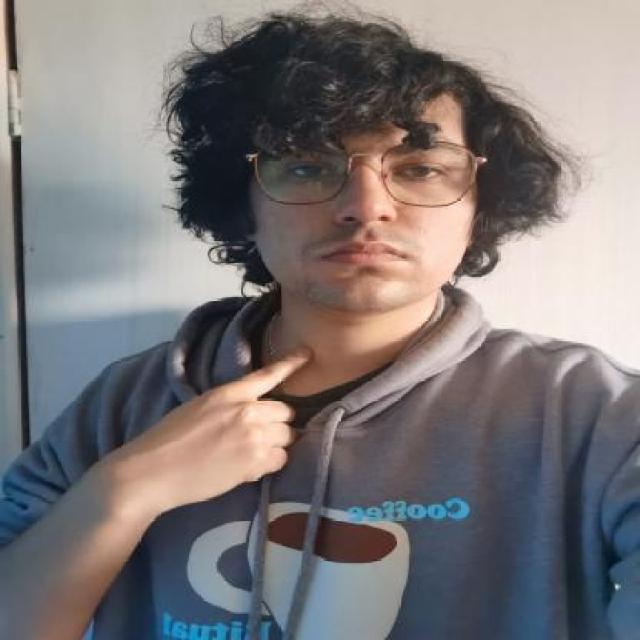Q: (117, 343, 314, 499)
